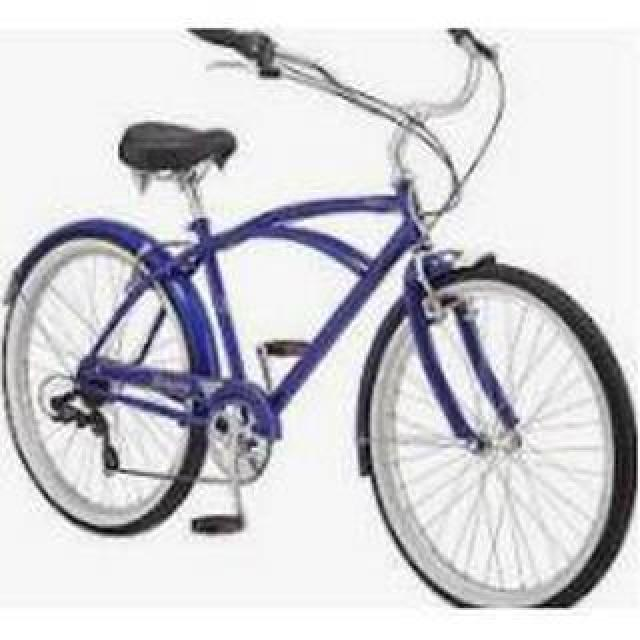Person: (7, 22, 637, 608)
